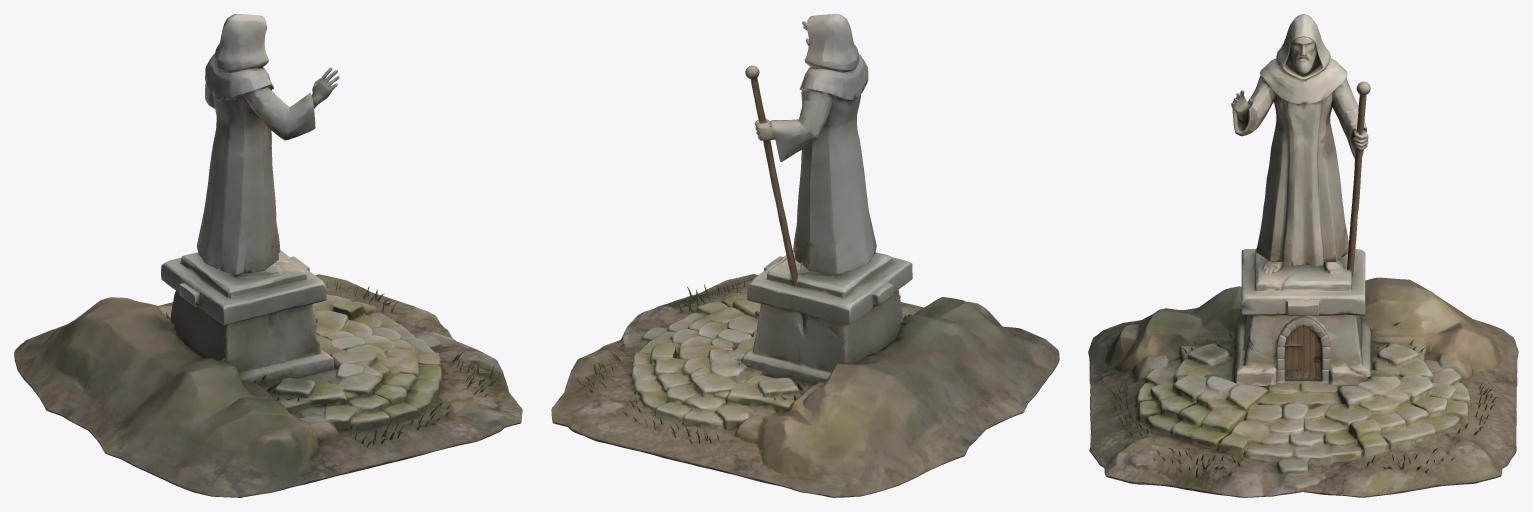
Rendered from monumento_guardiao.glb.
The picture shows the model from 3 angles, left to right: view 1: azimuth 30°, elevation 25°; view 2: azimuth 150°, elevation 25°; view 3: azimuth 270°, elevation 25°; orthographic projection.
Visible parts, largest first — view 1: tripo_node_ed5e1a0d-2af6-4511-9336-6907d11fffdc; view 2: tripo_node_ed5e1a0d-2af6-4511-9336-6907d11fffdc; view 3: tripo_node_ed5e1a0d-2af6-4511-9336-6907d11fffdc.
Boxes of the visible parts, x1,y1,x2,y2 form: tripo_node_ed5e1a0d-2af6-4511-9336-6907d11fffdc: [14, 14, 522, 497]; tripo_node_ed5e1a0d-2af6-4511-9336-6907d11fffdc: [551, 14, 1059, 497]; tripo_node_ed5e1a0d-2af6-4511-9336-6907d11fffdc: [1088, 14, 1518, 497].
Size of the model in its own units: 0.9996 by 0.9376 by 0.9759.
1 material, 1 textured.
